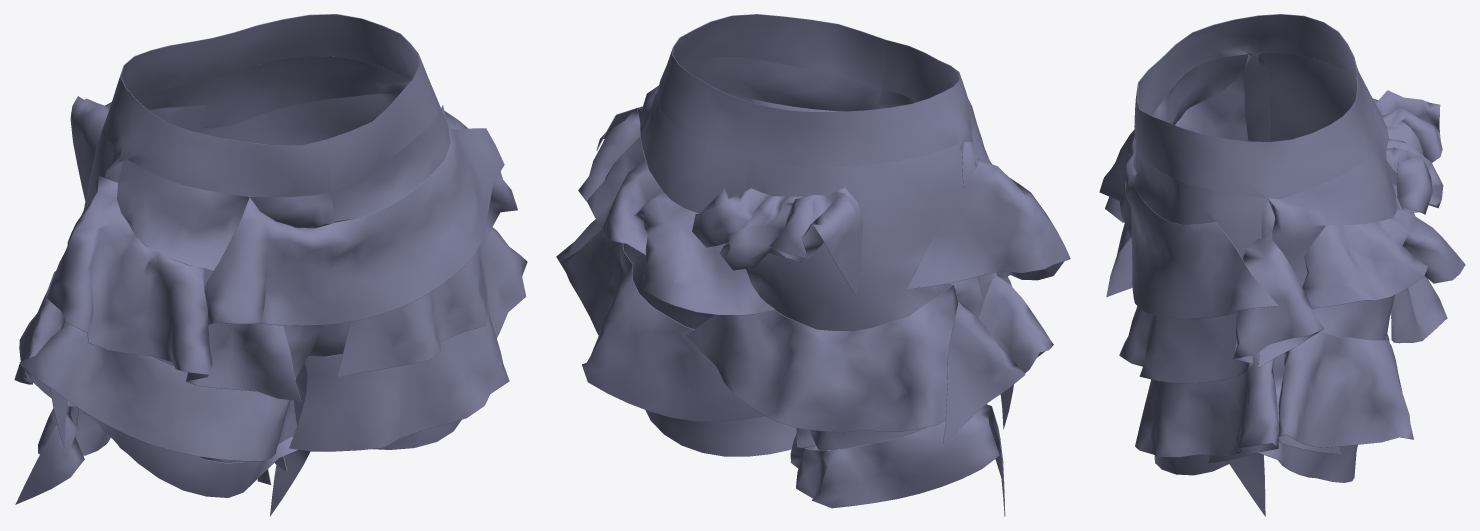
3 renders of one model, left to right at view 1: azimuth 30°, elevation 25°; view 2: azimuth 150°, elevation 25°; view 3: azimuth 270°, elevation 25°, orthographic. The views are drawn at different scales.
Visible parts, largest first — view 1: Pattern2D_523325, Pattern2D_3805023, Pattern2D_3805022, Pattern2D_3805025, Pattern2D_1055682, Pattern2D_3805019, Pattern2D_1027841, Pattern2D_3805021, Pattern2D_3805020, Pattern2D_3805024, Pattern2D_3805030, Pattern2D_1028449 (+2 smaller); view 2: Pattern2D_3805031, Pattern2D_523325, Pattern2D_1028449, Pattern2D_3805028, Pattern2D_3805026, Pattern2D_3805030, Pattern2D_3805022, Pattern2D_3805029, Pattern2D_3805019, Pattern2D_3805020, Pattern2D_3805027, Pattern2D_1055682 (+3 smaller); view 3: Pattern2D_523325, Pattern2D_3805021, Pattern2D_3805028, Pattern2D_3805023, Pattern2D_3805025, Pattern2D_3805019, Pattern2D_3805026, Pattern2D_1028449, Pattern2D_3805020, Pattern2D_3805029, Pattern2D_1027841, Pattern2D_3805027 (+2 smaller).
Boxes of the visible parts, box(x1,y1,x2,y2) form: Pattern2D_523325: box(105, 14, 438, 196); Pattern2D_3805023: box(204, 127, 504, 325); Pattern2D_3805022: box(47, 176, 301, 401); Pattern2D_3805025: box(289, 227, 527, 451); Pattern2D_1055682: box(19, 323, 297, 461); Pattern2D_3805019: box(201, 56, 410, 145); Pattern2D_1027841: box(104, 157, 333, 463); Pattern2D_3805021: box(337, 105, 517, 376); Pattern2D_3805020: box(294, 79, 461, 449); Pattern2D_3805024: box(50, 388, 310, 516); Pattern2D_3805030: box(15, 406, 271, 504); Pattern2D_1028449: box(82, 80, 212, 415); Pattern2D_3805031: box(686, 284, 1025, 443); Pattern2D_523325: box(656, 14, 976, 167); Pattern2D_1028449: box(745, 143, 983, 450); Pattern2D_3805028: box(561, 230, 764, 421); Pattern2D_3805026: box(587, 136, 775, 315); Pattern2D_3805030: box(790, 404, 1005, 516); Pattern2D_3805022: box(907, 158, 1070, 289); Pattern2D_3805029: box(692, 187, 863, 295); Pattern2D_3805019: box(623, 85, 750, 328); Pattern2D_3805020: box(685, 56, 882, 111); Pattern2D_3805027: box(645, 410, 796, 456); Pattern2D_1055682: box(978, 276, 1053, 373); Pattern2D_523325: box(1134, 14, 1375, 198); Pattern2D_3805021: box(1119, 238, 1324, 383); Pattern2D_3805028: box(1278, 331, 1413, 453); Pattern2D_3805023: box(1099, 129, 1278, 318); Pattern2D_3805025: box(1135, 351, 1279, 463); Pattern2D_3805019: box(1261, 134, 1396, 396); Pattern2D_3805026: box(1302, 184, 1465, 319); Pattern2D_1028449: box(1244, 53, 1397, 185); Pattern2D_3805020: box(1134, 152, 1267, 475); Pattern2D_3805029: box(1373, 90, 1443, 214); Pattern2D_1027841: box(1133, 52, 1252, 172); Pattern2D_3805027: box(1227, 395, 1357, 516).
Size of the model in its own units: 48.02 by 40.68 by 32.19.
